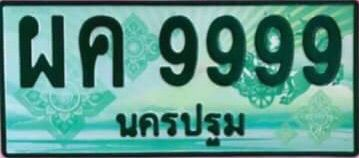Non-Bangkok: (105, 99, 252, 150)
